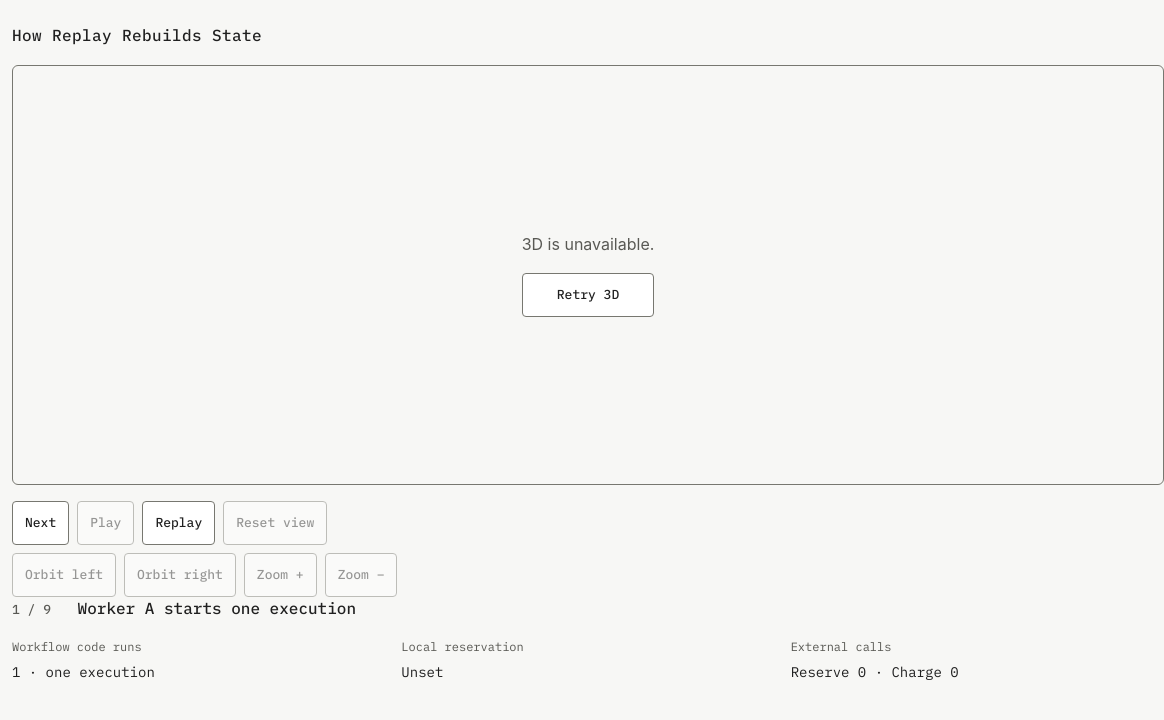
Test: preserves manual replay and retries a failed 3D mount without losing current state
This screenshot has width=1164, height=720.
Expected: the button "Play" is disabled, [77, 501, 134, 545]
Expected: the text "3D is unavailable." is shown, [522, 232, 654, 257]
Click the button "Next" at (41, 523), box [12, 501, 69, 545]
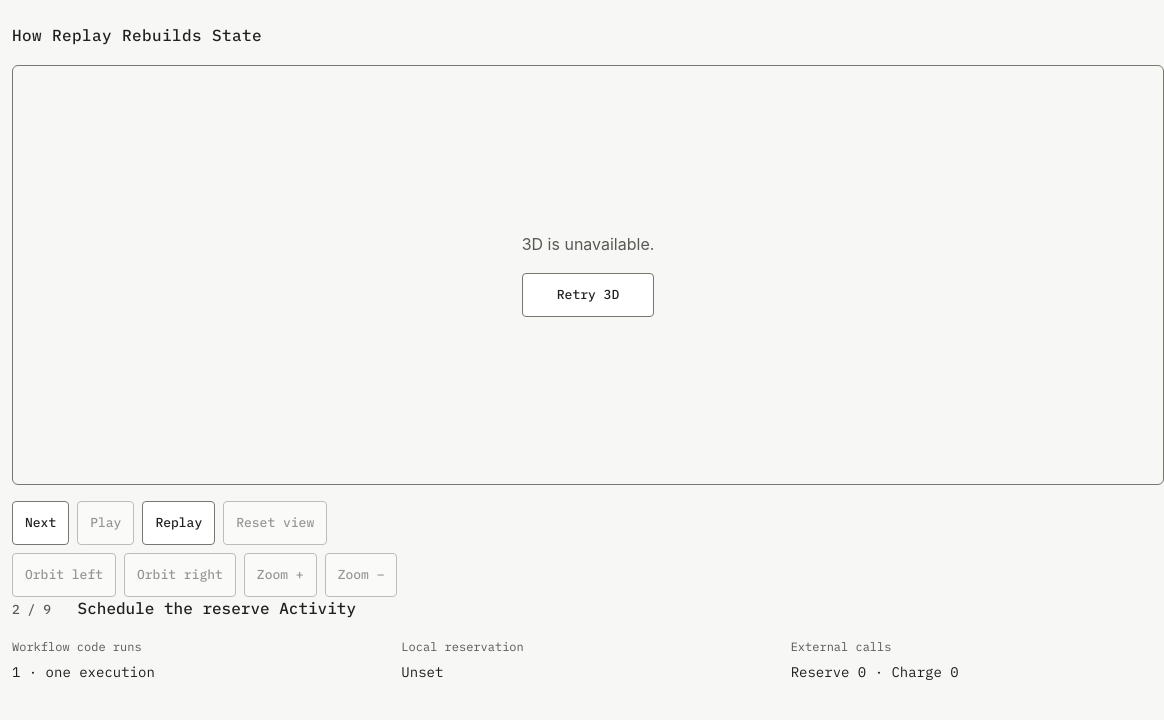
Click the button "Next" at (41, 523), box [12, 501, 69, 545]
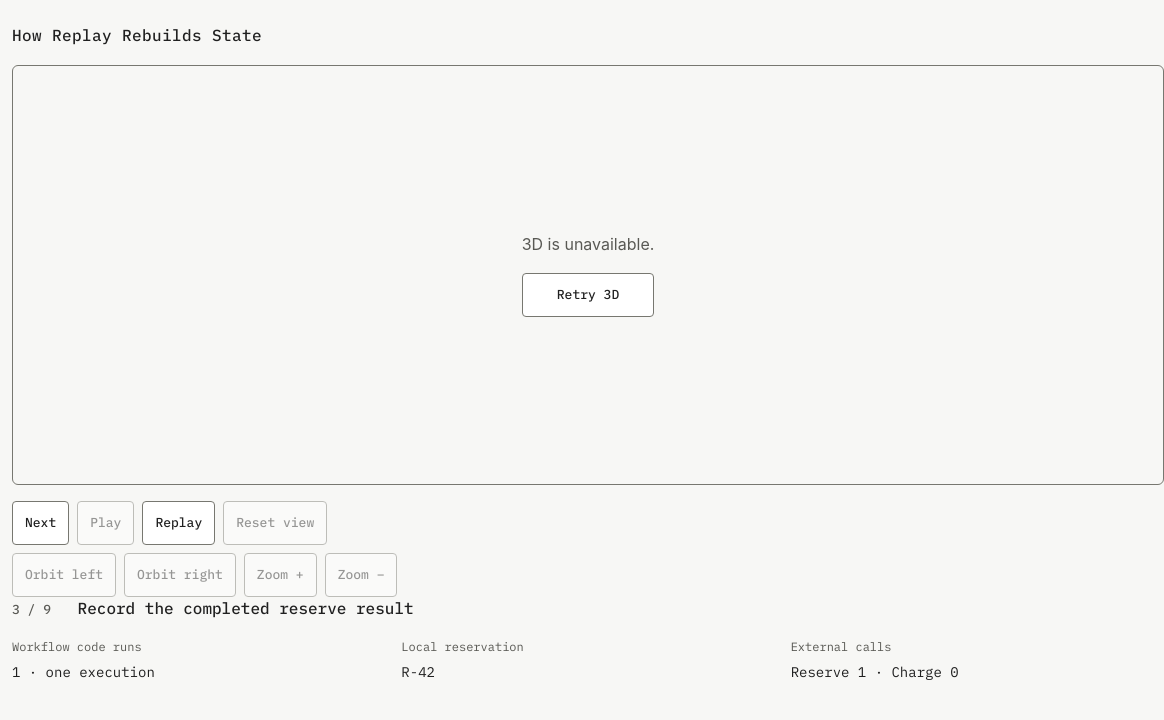
Click the button "Next" at (41, 523), box [12, 501, 69, 545]
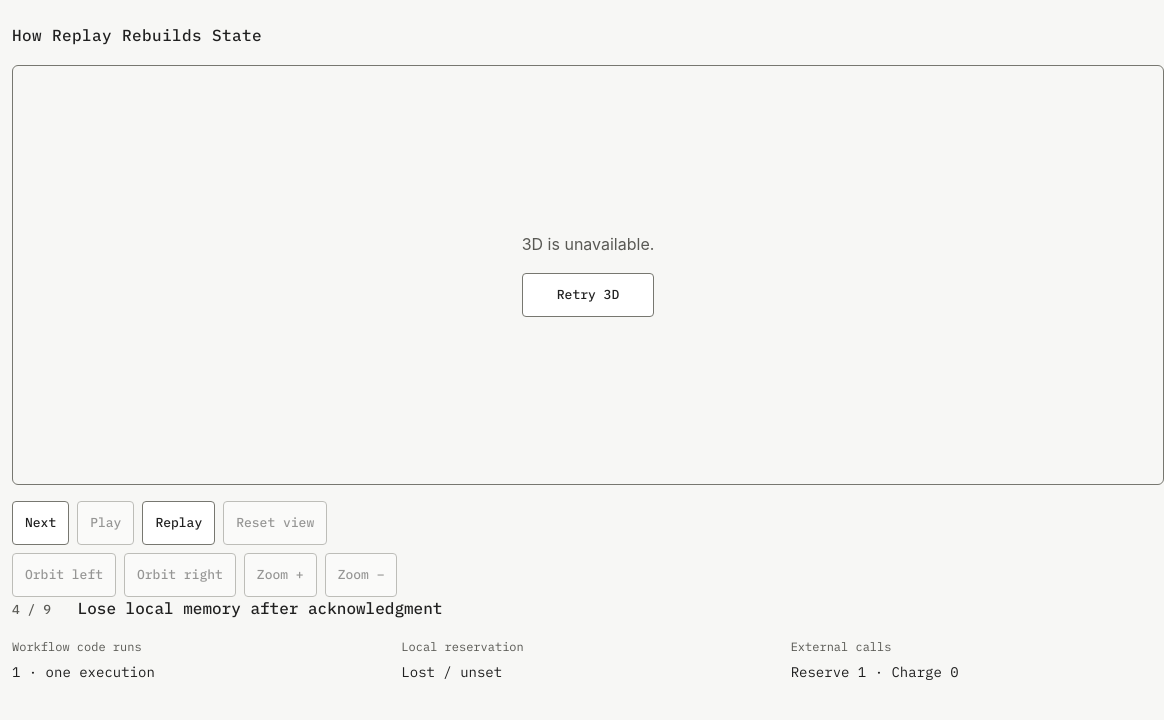
Click the button "Next" at (41, 523), box [12, 501, 69, 545]
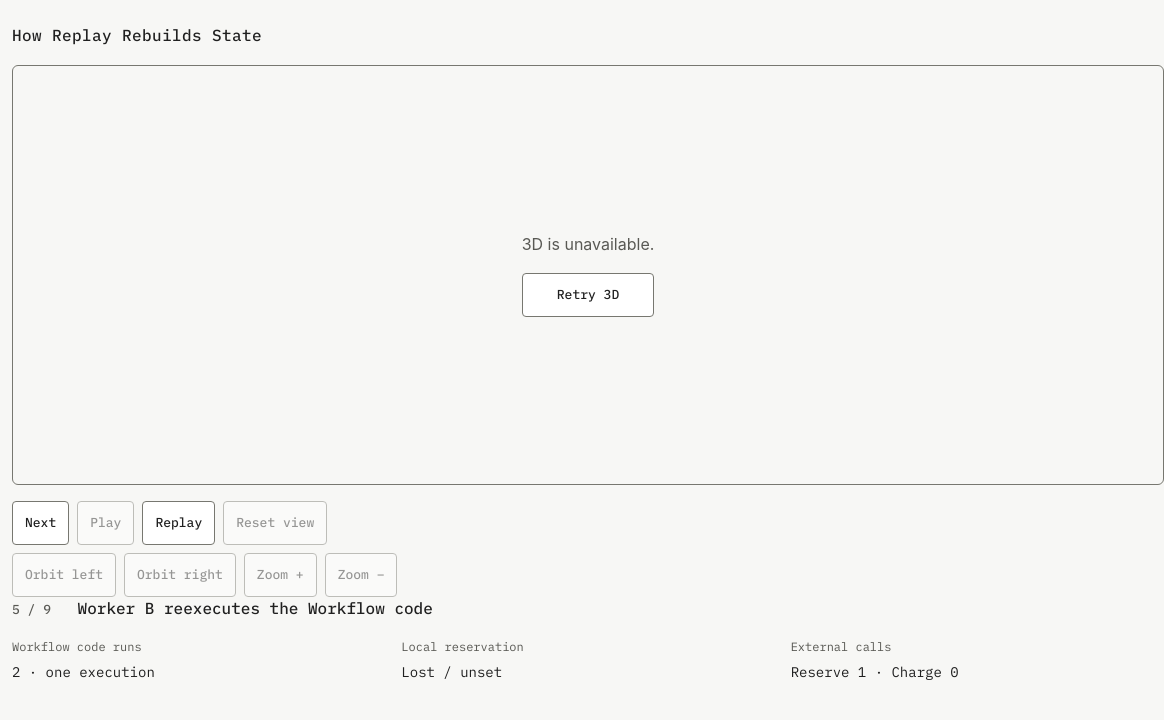
Click the button "Next" at (41, 523), box [12, 501, 69, 545]
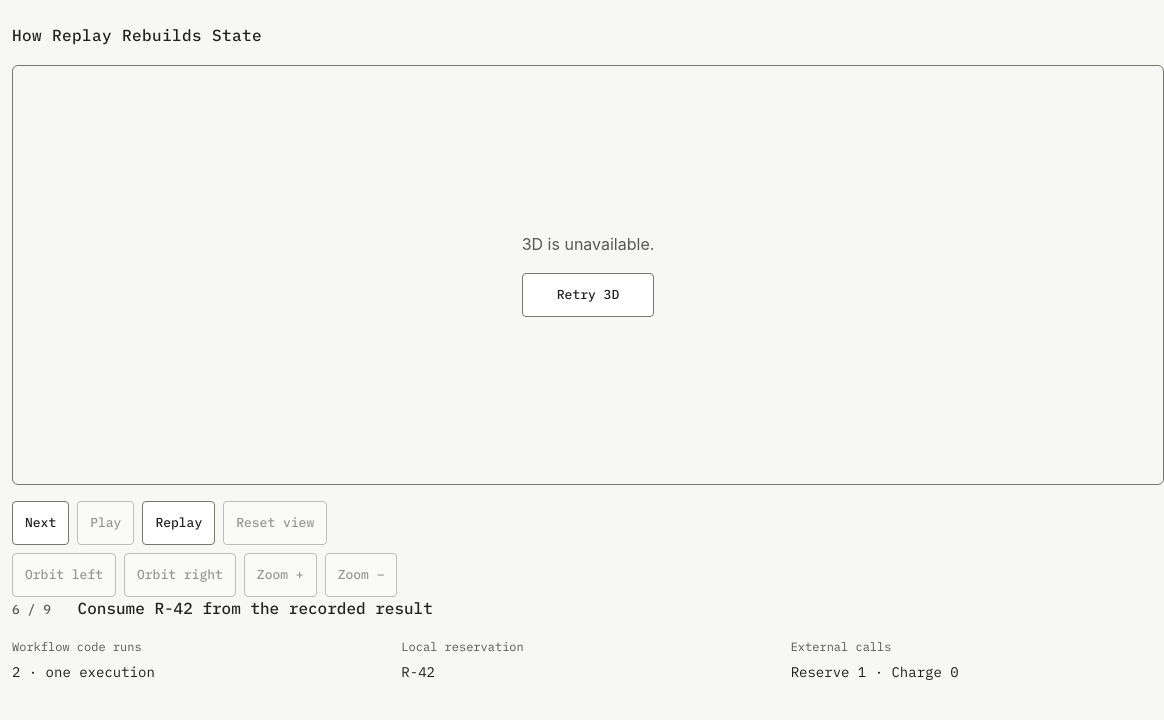
Expected: the button "Reset view" is disabled, [223, 501, 327, 545]
Result: the text "Reserve 1 · Charge 0" is shown at [791, 663, 959, 681]
Result: the message shows "Consume R-42 from the recorded result" at [78, 598, 433, 619]
Click the button "Retry 3D" at (588, 295), box [522, 273, 654, 317]
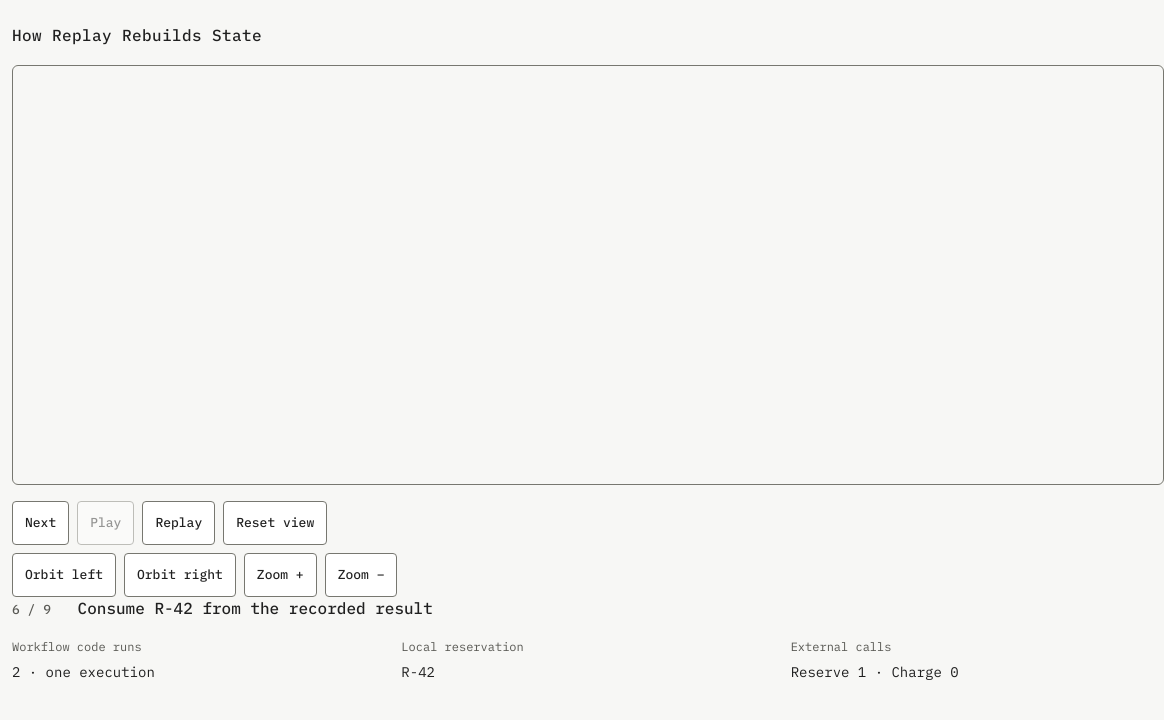
Result: the button "Reset view" is enabled at [223, 501, 327, 545]
